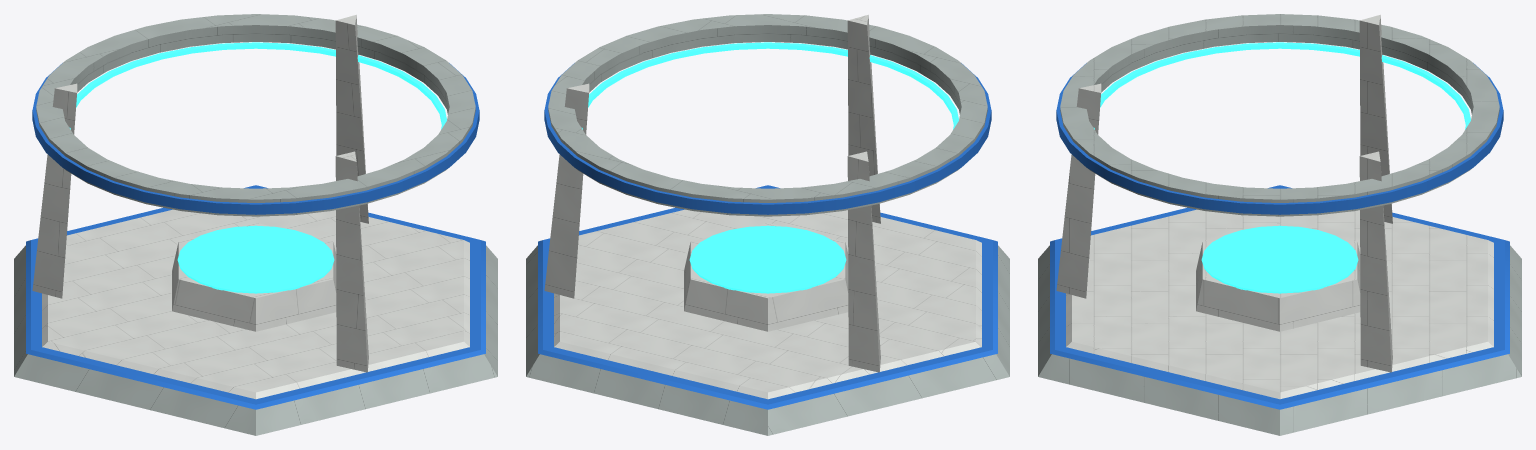
The model's file is energia_hangar.glb.
3 views of the same model, side by side, from view 1: azimuth 30°, elevation 25°; view 2: azimuth 150°, elevation 25°; view 3: azimuth 270°, elevation 25° (orthographic).
Visible parts, largest first — view 1: Body_Shell, Ring_ShellAlt, Body_ShellAlt, Body_TeamColor, Body_Glow, Ring_TeamColor, Ring_Glow; view 2: Body_Shell, Ring_ShellAlt, Body_ShellAlt, Body_TeamColor, Body_Glow, Ring_TeamColor, Ring_Glow; view 3: Body_Shell, Ring_ShellAlt, Body_ShellAlt, Body_TeamColor, Body_Glow, Ring_TeamColor, Ring_Glow.
Part boxes in pixels (x1,y1,x2,y2): Body_Shell: (32, 14, 469, 399); Ring_ShellAlt: (36, 14, 475, 216); Body_ShellAlt: (14, 245, 497, 435); Body_TeamColor: (26, 185, 485, 409); Body_Glow: (177, 225, 334, 293); Ring_TeamColor: (32, 63, 479, 214); Ring_Glow: (69, 42, 446, 129); Body_Shell: (544, 14, 981, 399); Ring_ShellAlt: (548, 14, 987, 216); Body_ShellAlt: (526, 245, 1009, 435); Body_TeamColor: (538, 185, 997, 409); Body_Glow: (689, 225, 846, 293); Ring_TeamColor: (544, 63, 991, 214); Ring_Glow: (581, 42, 958, 129); Body_Shell: (1056, 14, 1493, 399); Ring_ShellAlt: (1060, 14, 1499, 216); Body_ShellAlt: (1038, 245, 1521, 435); Body_TeamColor: (1050, 185, 1509, 409); Body_Glow: (1201, 225, 1358, 293); Ring_TeamColor: (1056, 63, 1503, 214); Ring_Glow: (1093, 42, 1470, 129).
Size of the model in its own units: 15 by 6.8 by 12.99.
4 materials, 2 textured.
